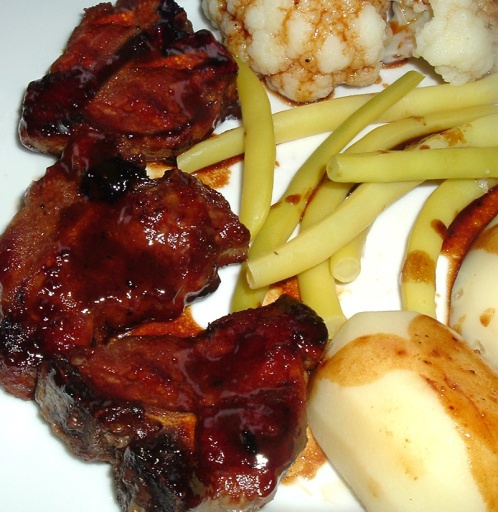background: (0, 0, 388, 410)
